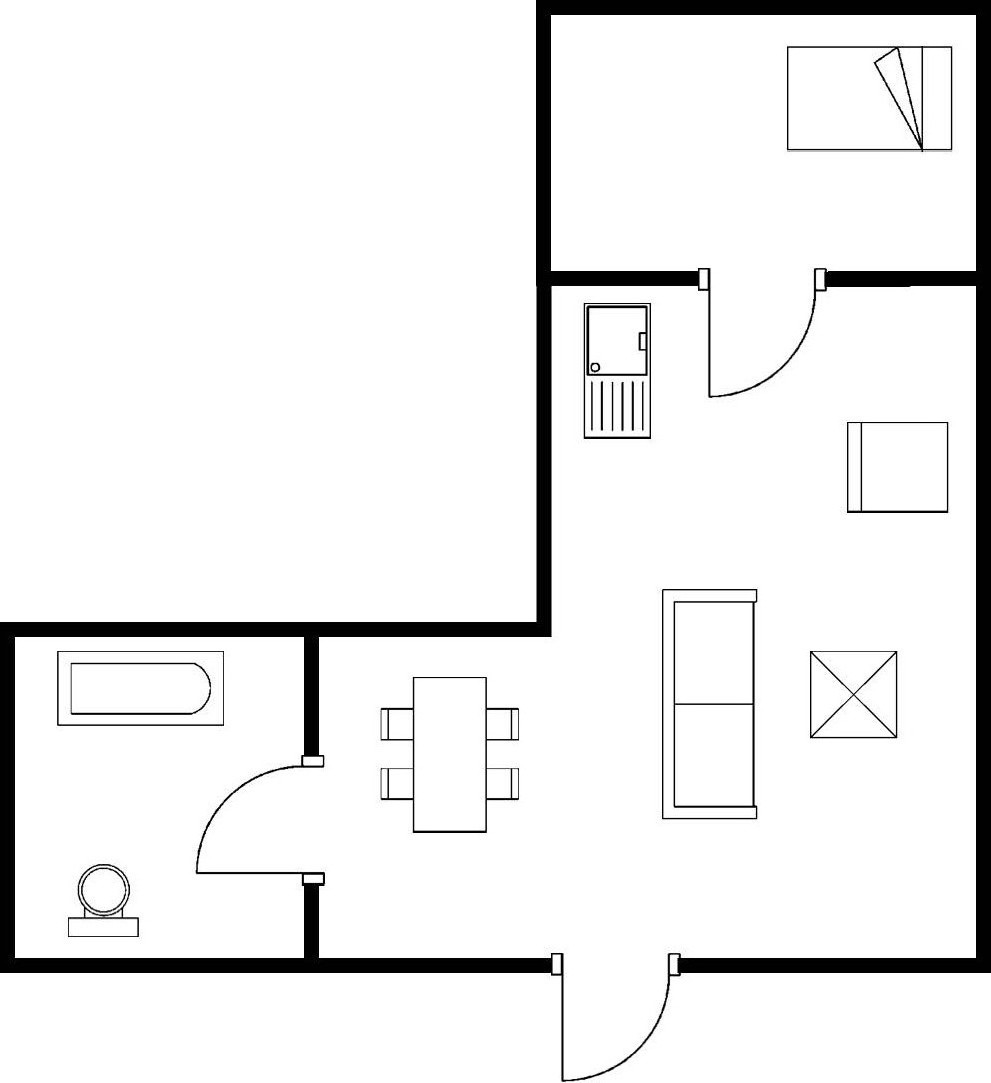bed: (782, 42, 958, 157)
coffee_table: (803, 645, 905, 746)
dining_table: (373, 672, 526, 840)
large_sink: (62, 857, 145, 942)
large_sofa: (653, 584, 767, 827)
sink: (575, 297, 656, 445)
small_sofa: (838, 415, 953, 519)
tub: (50, 644, 231, 734)
